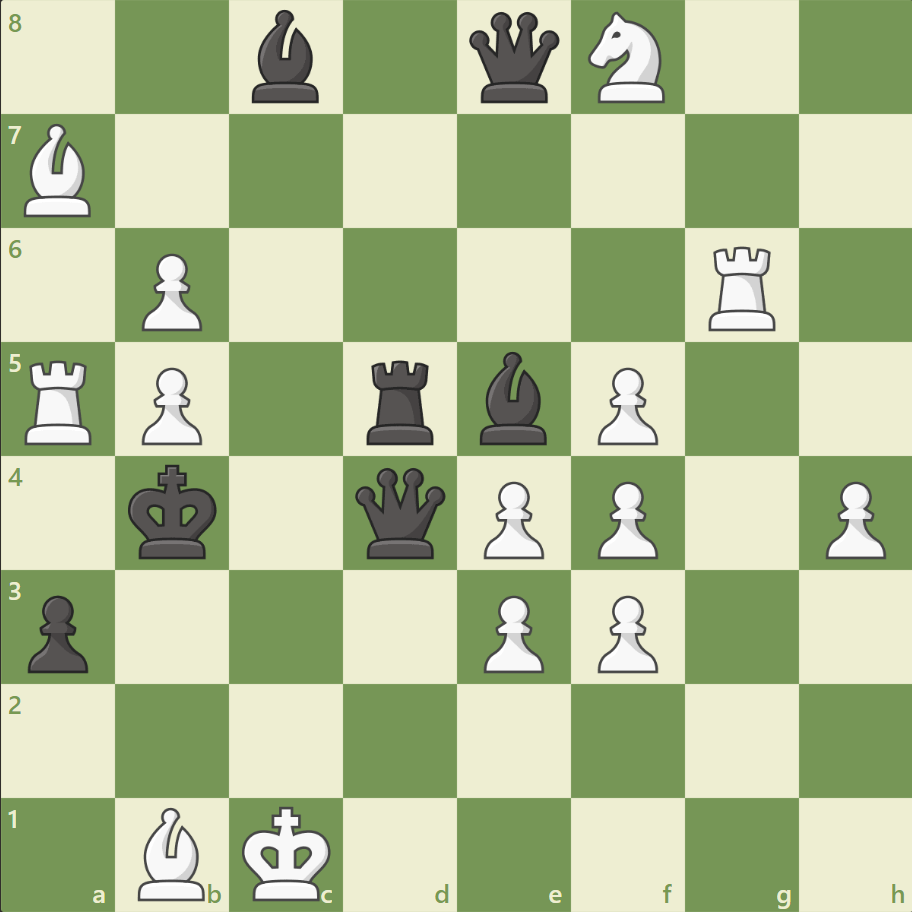B: (131, 801, 215, 904), (17, 120, 101, 222)
K: (238, 798, 338, 906)
N: (579, 7, 676, 110)
P: (133, 246, 208, 337), (133, 359, 208, 450), (474, 473, 549, 564), (474, 586, 549, 677), (588, 359, 662, 450), (588, 473, 662, 564), (815, 473, 889, 564), (588, 586, 662, 677)
R: (700, 239, 783, 336), (19, 352, 102, 449)
b: (244, 6, 328, 109), (471, 347, 555, 449)
k: (124, 458, 224, 566)
p: (20, 586, 95, 677)
q: (464, 9, 563, 108), (351, 463, 450, 562)
r: (360, 352, 442, 449)
